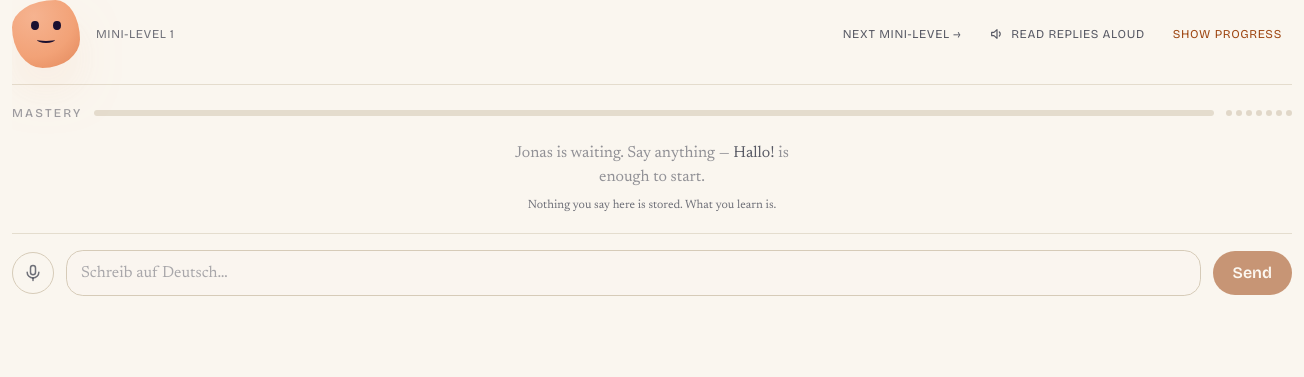
the companion says what is happening › stops speaking when the reply never arrives
Step 1. Type "Hallo" into the field named "your message in german" → [633, 273], box left=66, top=250, right=1201, bottom=296
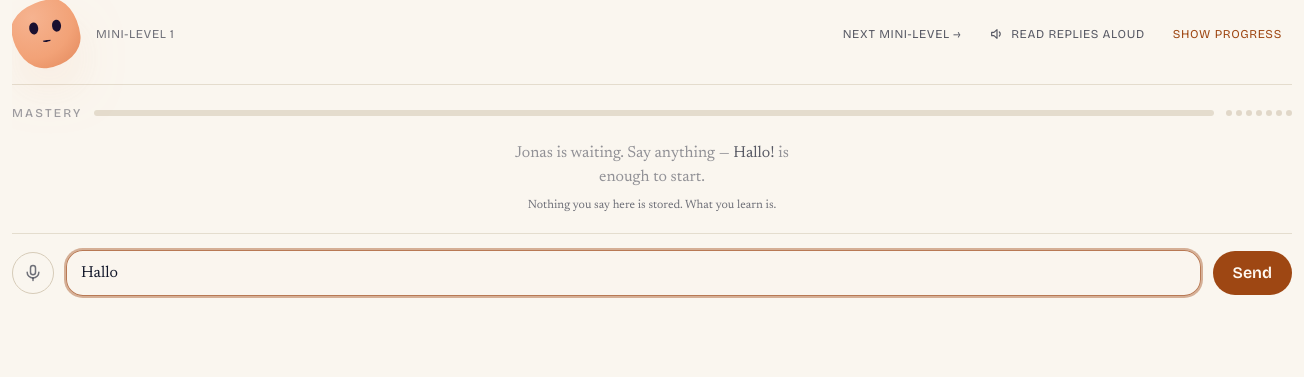
Step 2. Click the button "Send" → [1252, 273], box left=1213, top=251, right=1292, bottom=295
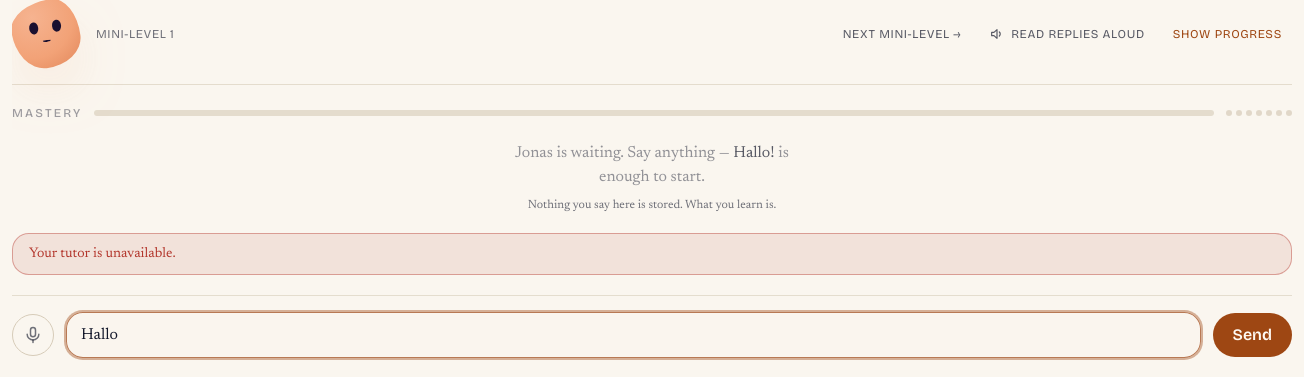
Result: the message reads "Your tutor is unavailable." at left=29, top=247, right=176, bottom=261
